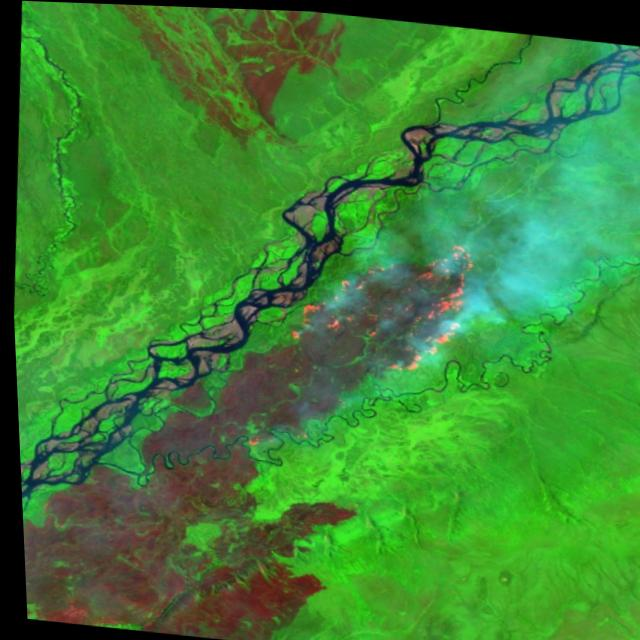fire: (276, 221, 483, 376)
